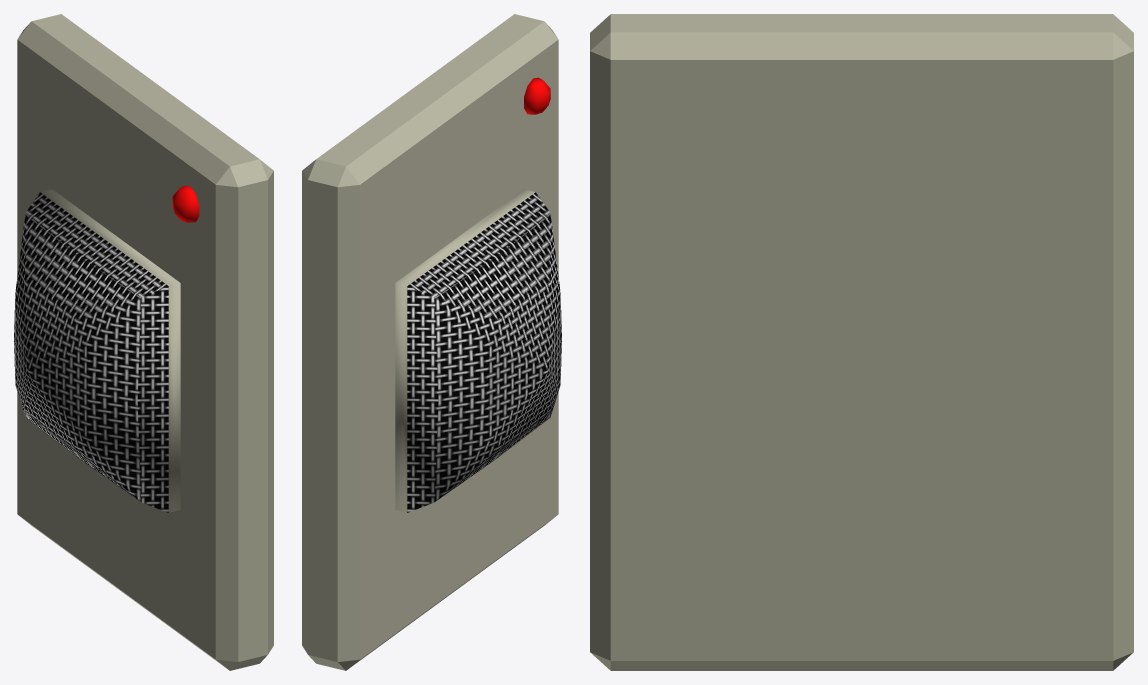
The model's file is noise_sensor.glb.
3 views of the same model, side by side, from view 1: azimuth 30°, elevation 25°; view 2: azimuth 150°, elevation 25°; view 3: azimuth 270°, elevation 25° (orthographic). The views are drawn at different scales.
Parts seen in each view (by area): view 1: Sensor, Beeper; view 2: Sensor, Beeper; view 3: Sensor.
Boxes of the visible parts, left/top/right/bottom form: Sensor: left=14, top=14, right=273, bottom=670; Beeper: left=172, top=185, right=199, bottom=222; Sensor: left=302, top=14, right=561, bottom=670; Beeper: left=524, top=77, right=550, bottom=114; Sensor: left=590, top=14, right=1133, bottom=670.
Bounding box in the file's own units: 0.4849 × 1.59 × 1.23.
Materials: 3 (1 with a texture image).
